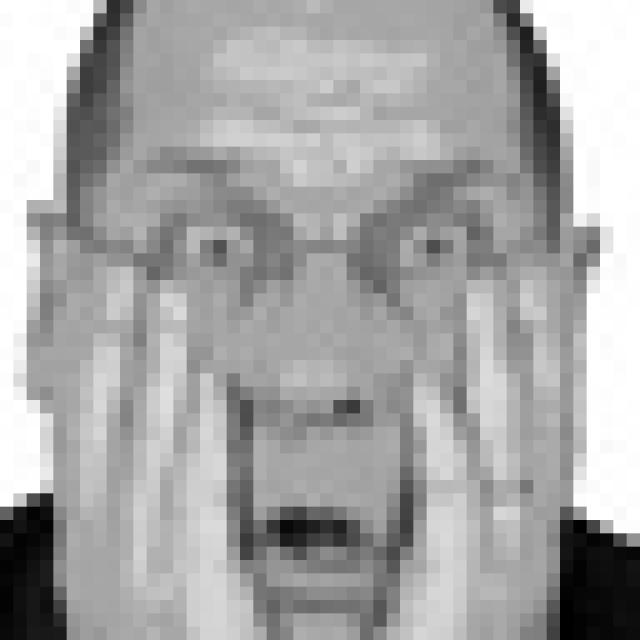fear: (134, 144, 521, 616)
